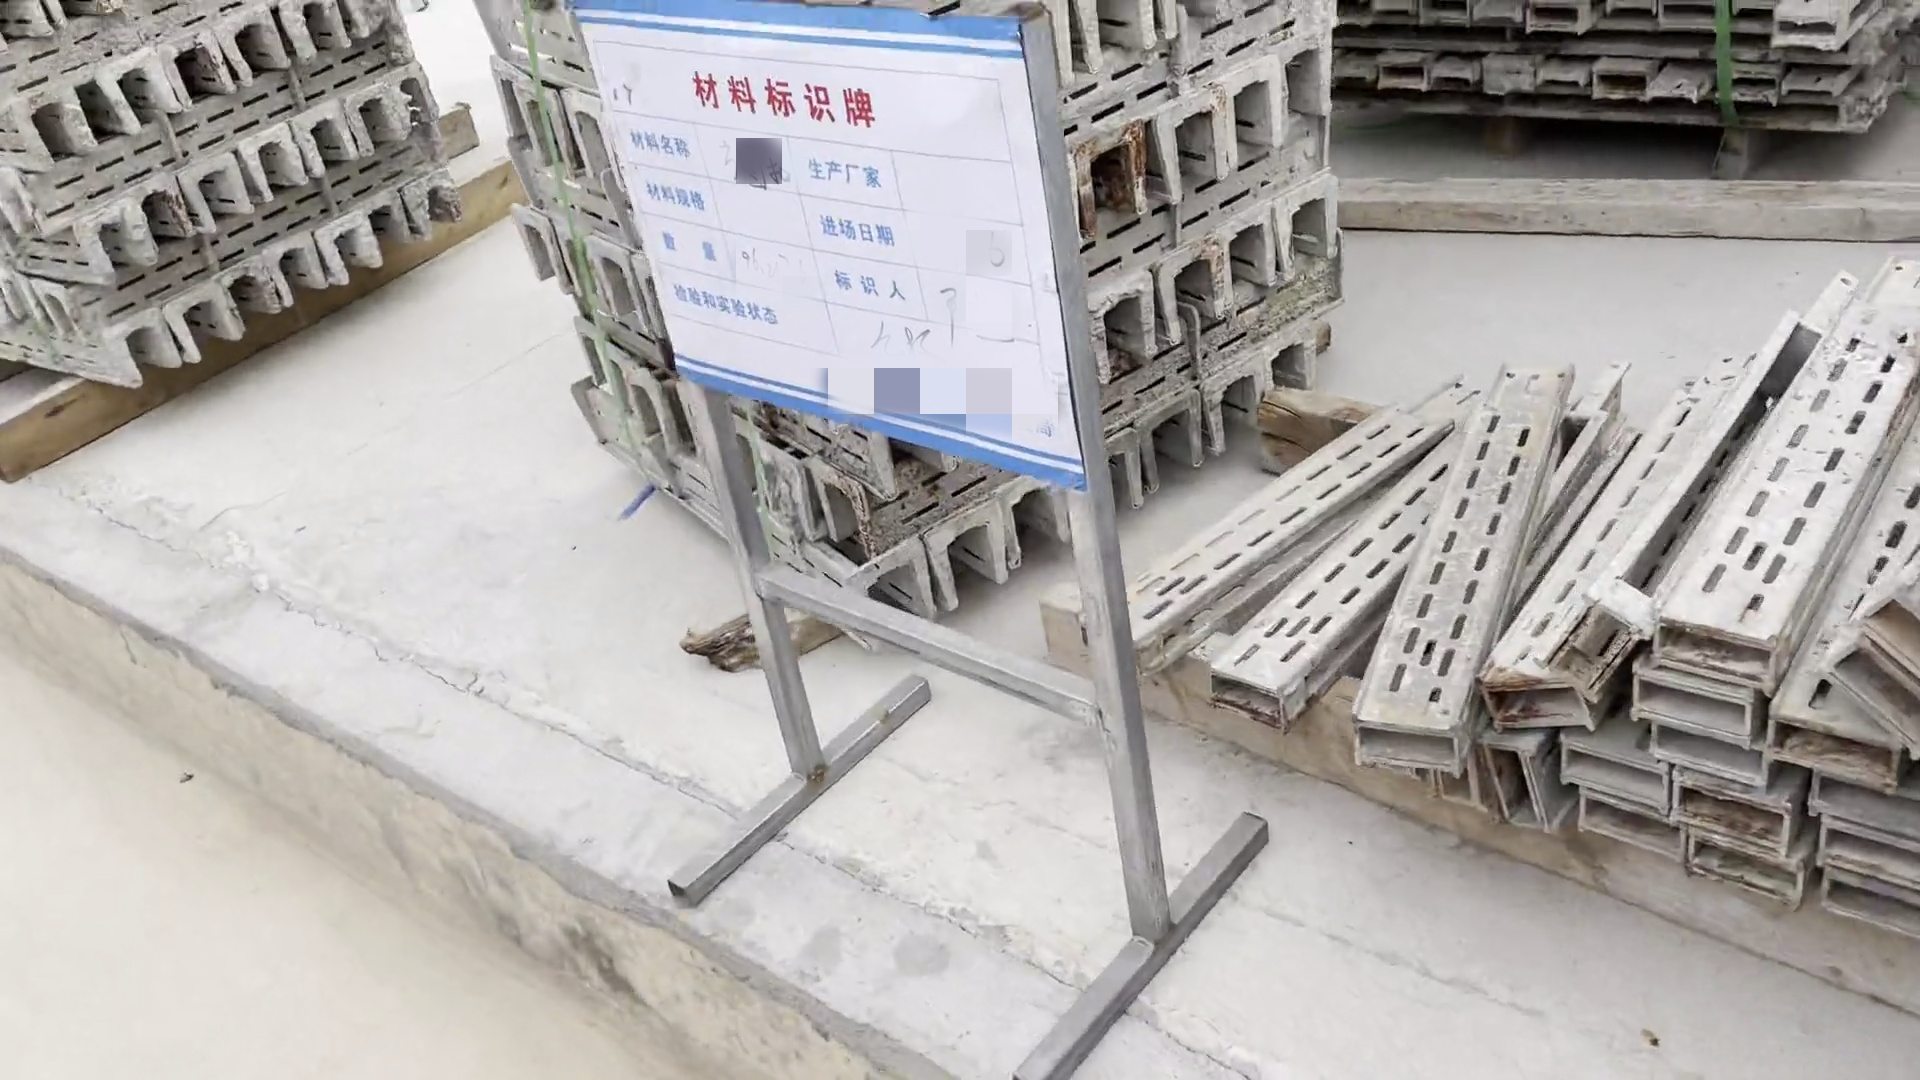slogan: (545, 1, 1106, 496)
